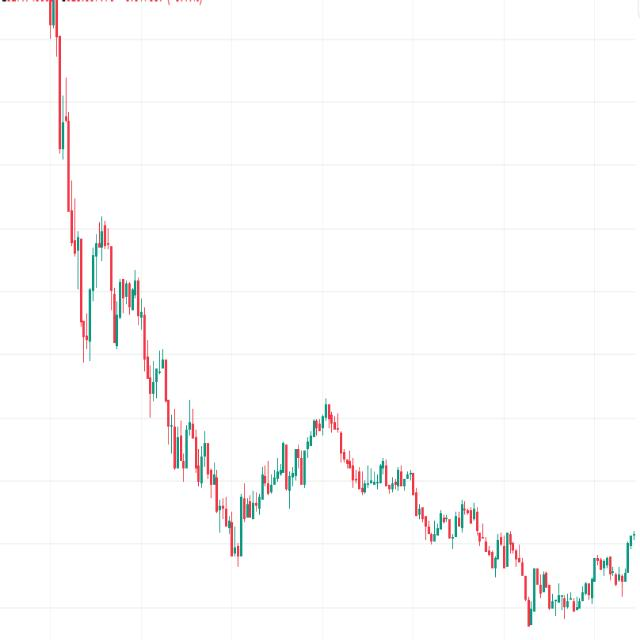Channel-down: (67, 186, 273, 593)
Channel-up: (204, 366, 352, 587)
